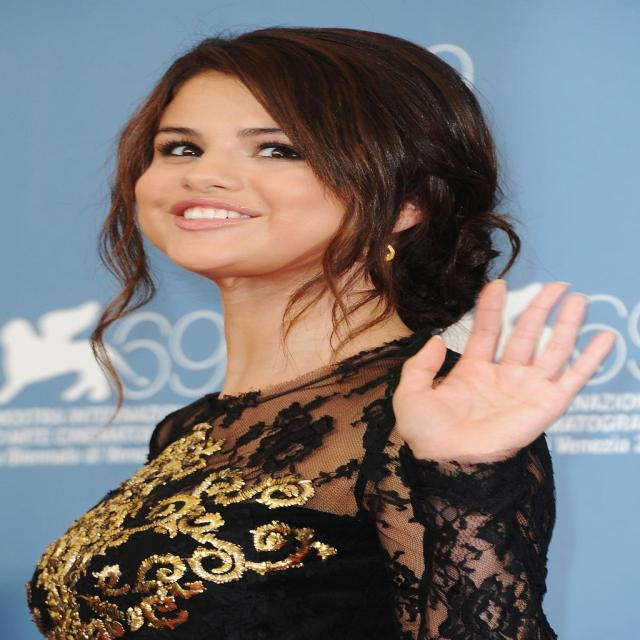Face: (141, 64, 390, 287)
